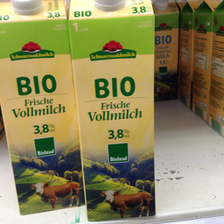milk: (65, 1, 158, 223), (1, 1, 84, 214)
